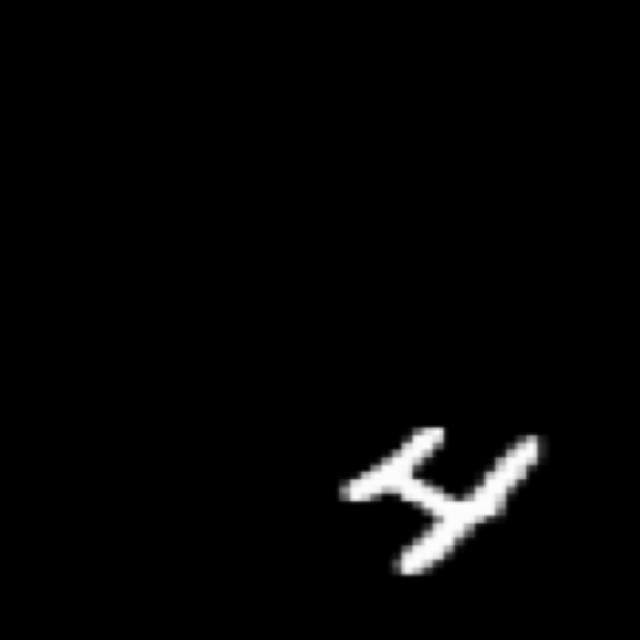four -4-: (327, 409, 556, 592)
